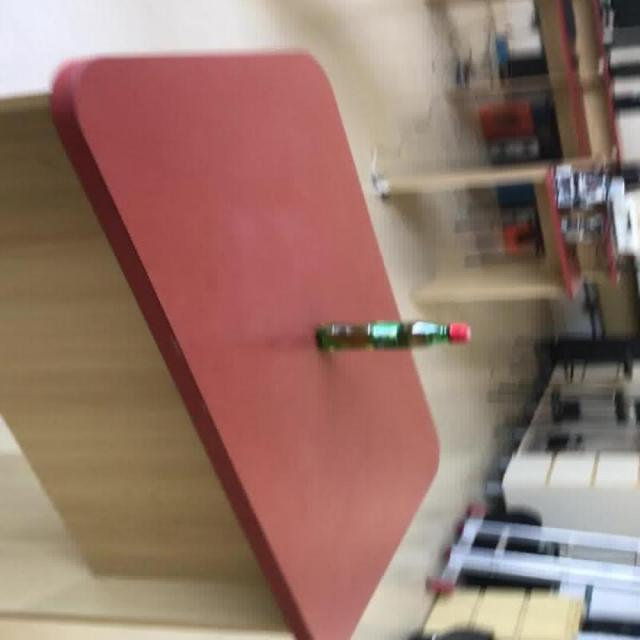Guarana: (312, 318, 471, 351)
